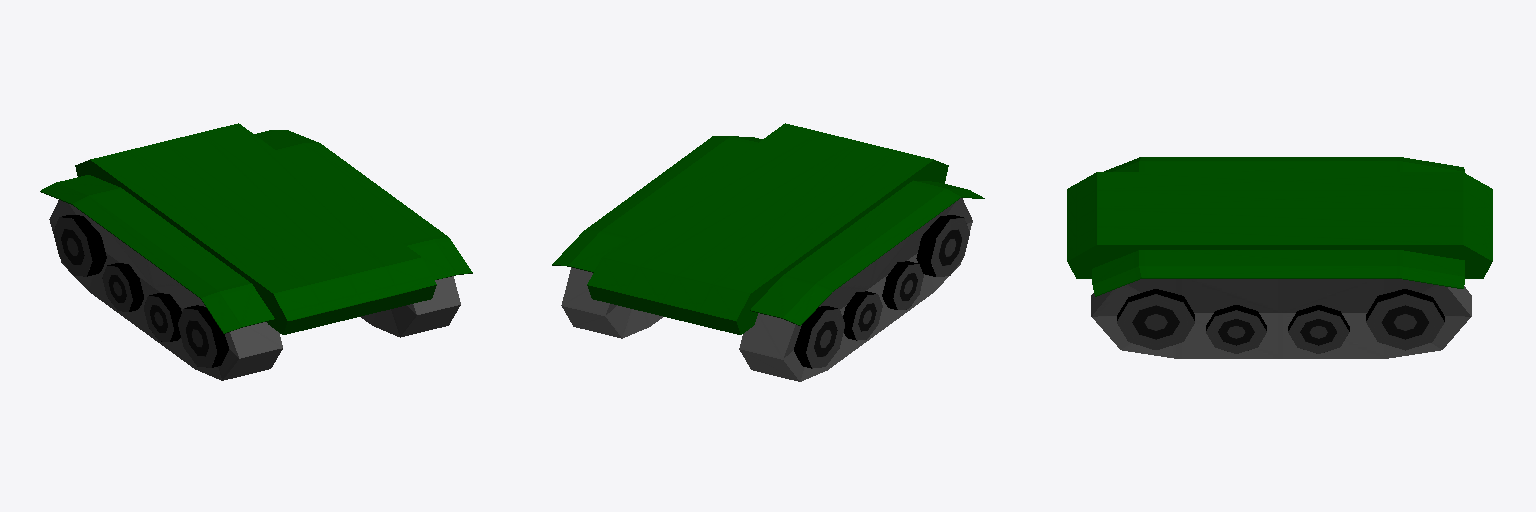
3 views of the same model, side by side, from view 1: azimuth 30°, elevation 25°; view 2: azimuth 150°, elevation 25°; view 3: azimuth 270°, elevation 25° (orthographic).
Parts seen in each view (by area): view 1: pasted__sensha_B group pasted__pasted__sensha pasted__group, pasted__pCube1 pasted__sensha_B group; view 2: pasted__pCube1 pasted__sensha_B group, pasted__sensha_B group pasted__pasted__sensha pasted__group; view 3: pasted__sensha_B group pasted__pasted__sensha pasted__group, pasted__pCube1 pasted__sensha_B group.
Part boxes in pixels (x1,y1,x2,y2): pasted__sensha_B group pasted__pasted__sensha pasted__group: (40,130,472,380); pasted__pCube1 pasted__sensha_B group: (75,123,436,334); pasted__pCube1 pasted__sensha_B group: (587,123,948,334); pasted__sensha_B group pasted__pasted__sensha pasted__group: (552,136,984,381); pasted__sensha_B group pasted__pasted__sensha pasted__group: (1091,157,1471,358); pasted__pCube1 pasted__sensha_B group: (1067,172,1492,278).
Size of the model in its own units: 2.46 by 0.8994 by 3.65.
Materials: 1 (1 with a texture image).